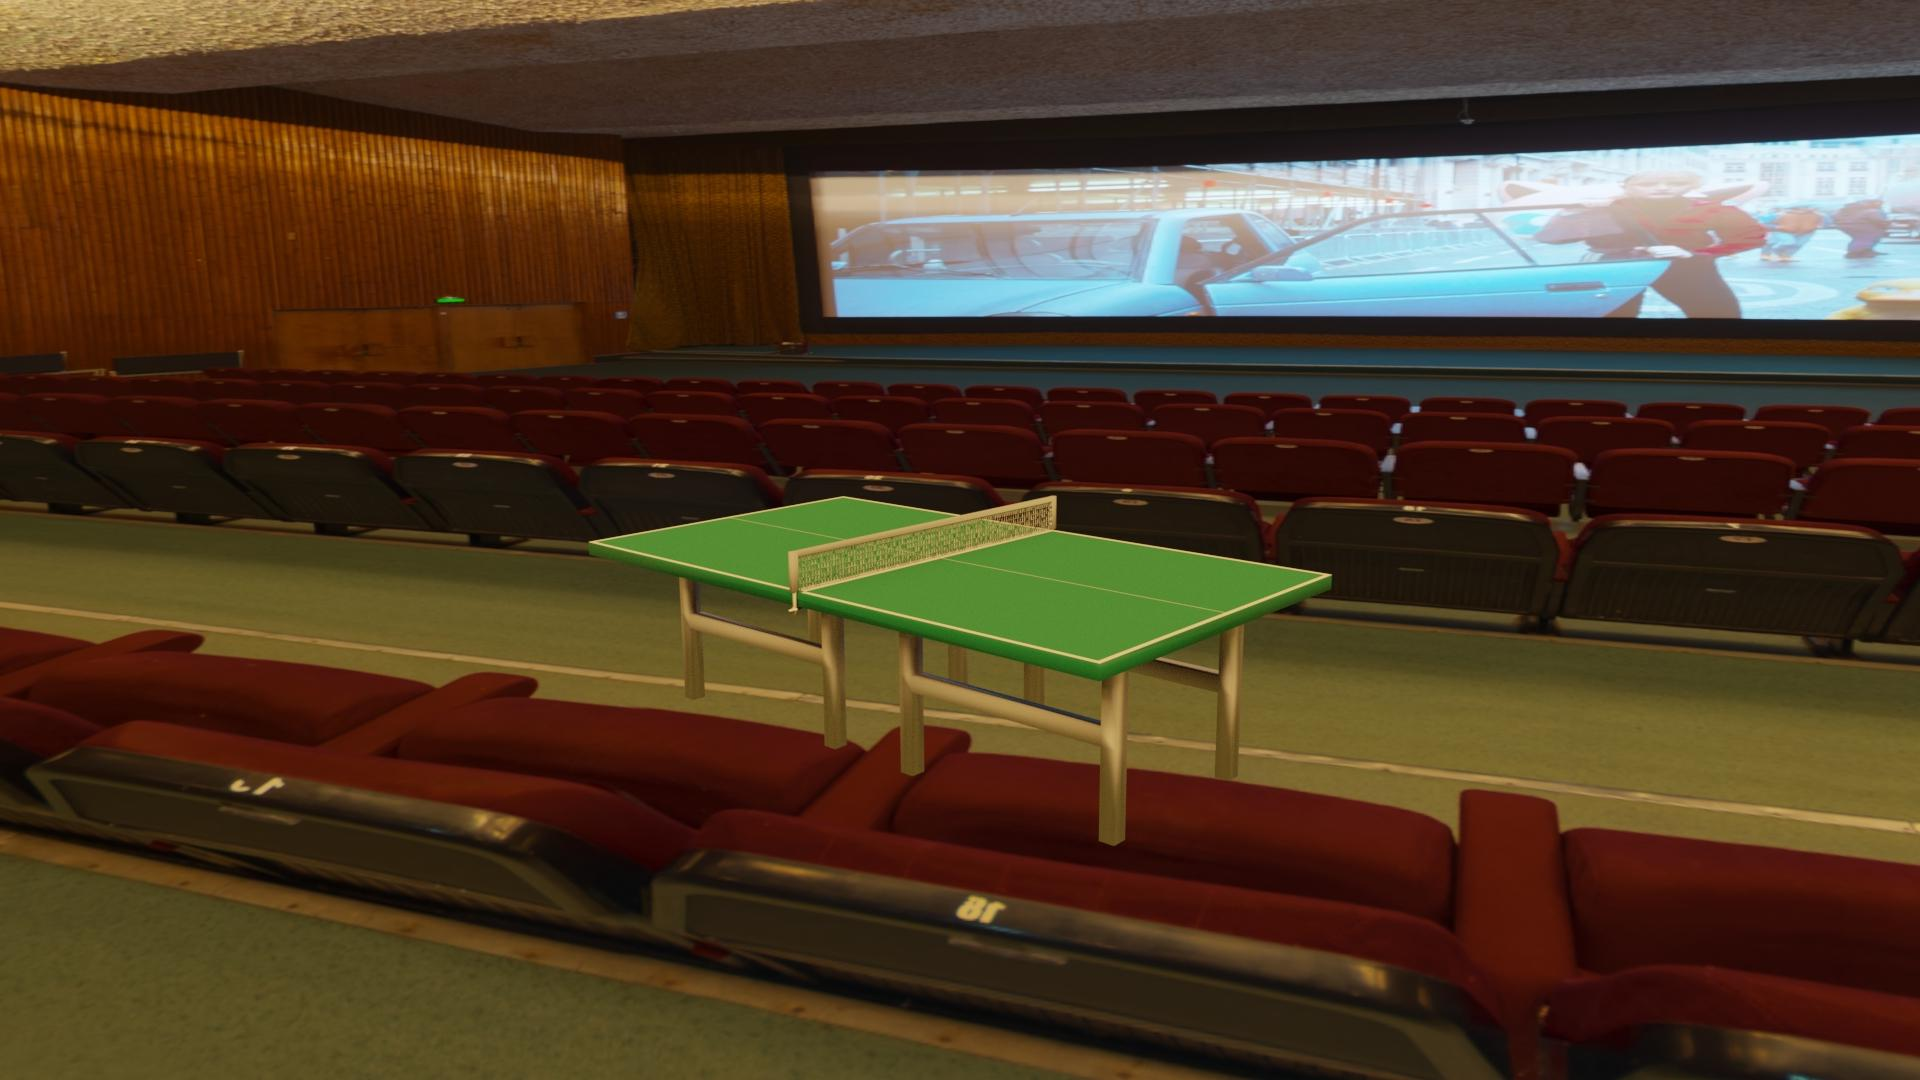table: (595, 497, 1325, 661)
